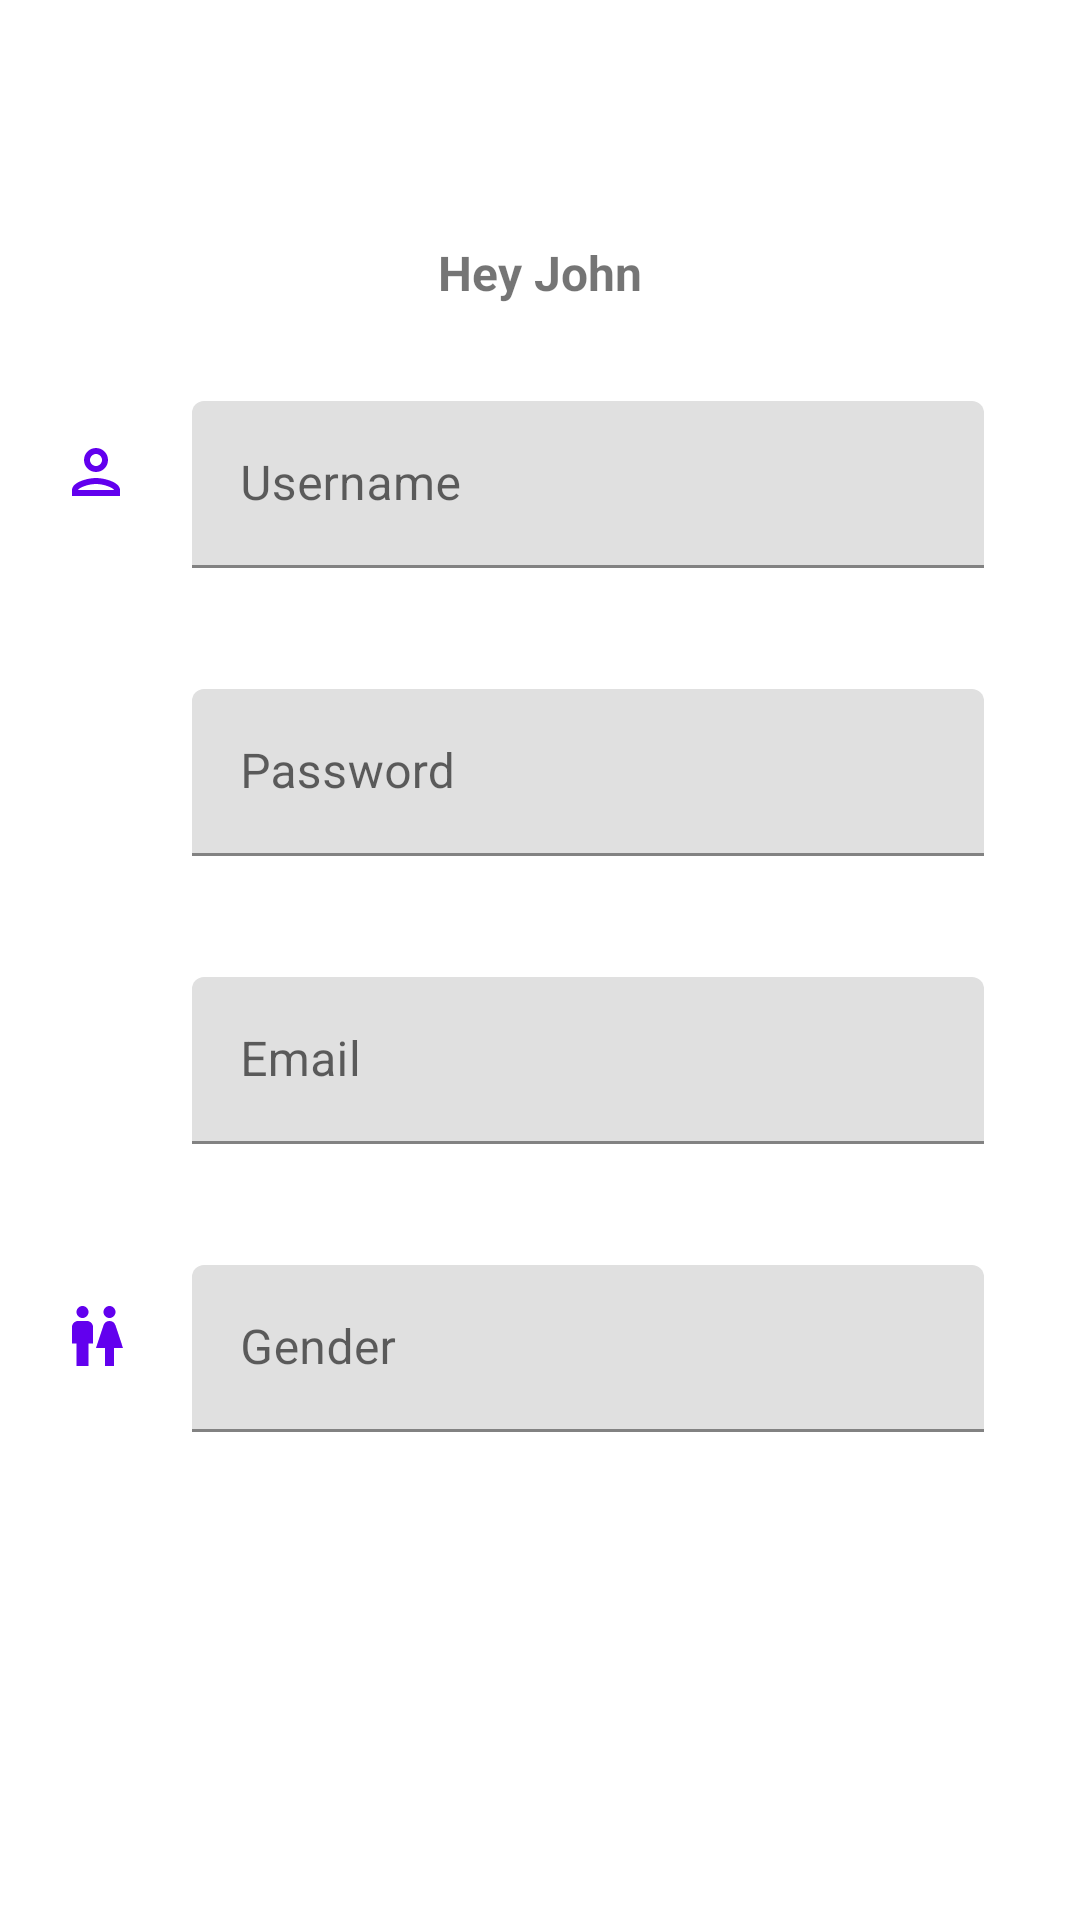

Named icons in this screenshot (1080w x 1920h) and their centers, (x,y):
Profile: (96,472)
